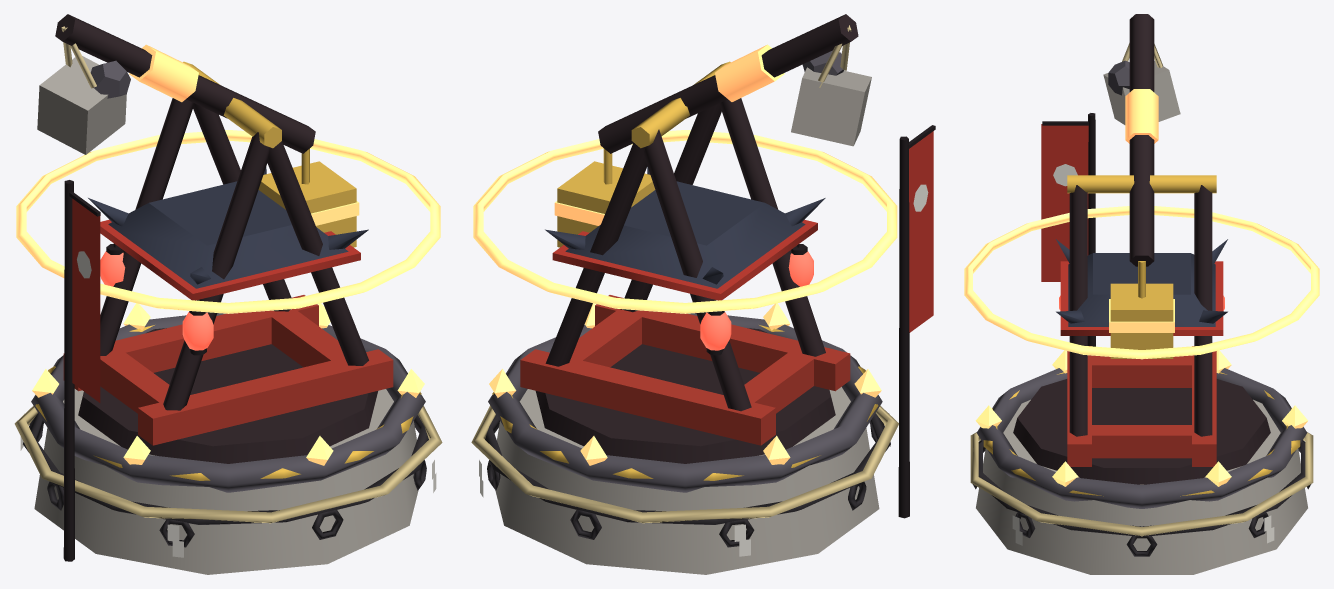
File: tower_catapult_fortressBreaker_ultimate.glb
3 renders of one model, left to right at view 1: azimuth 30°, elevation 25°; view 2: azimuth 150°, elevation 25°; view 3: azimuth 270°, elevation 25°, orthographic. The views are drawn at different scales.
Visible parts, largest first — view 1: base, turntable, base_rim, deco_eave_0_roof, rail_l, ult_halo, deco_shimenawa_rope, breaker_block, arm_beam, deco_nobori_cloth, aframe_back_l, rail_r (+17 smaller); view 2: base, turntable, base_rim, deco_eave_0_roof, ult_halo, rail_r, rail_l, deco_shimenawa_rope, arm_beam, aframe_back_r, breaker_block, aframe_back_l (+16 smaller); view 3: base, turntable, base_rim, ult_halo, deco_eave_0_roof, arm_beam, deco_nobori_cloth, deco_shimenawa_rope, aframe_front_l, aframe_front_r, cross_e, counterweight (+13 smaller).
Boxes of the visible parts, x1,y1,x2,y2 form: base: [34, 389, 418, 574]; turntable: [78, 328, 377, 463]; base_rim: [31, 313, 425, 492]; deco_eave_0_roof: [108, 181, 348, 288]; rail_l: [138, 349, 393, 445]; ult_halo: [16, 130, 440, 313]; deco_shimenawa_rope: [14, 405, 442, 523]; breaker_block: [37, 56, 126, 154]; arm_beam: [55, 14, 315, 153]; deco_nobori_cloth: [72, 198, 100, 402]; aframe_back_l: [163, 132, 269, 410]; rail_r: [63, 295, 318, 391]; base: [495, 387, 879, 574]; turntable: [535, 328, 835, 463]; base_rim: [488, 313, 882, 492]; deco_eave_0_roof: [565, 181, 805, 288]; ult_halo: [473, 130, 897, 313]; rail_r: [520, 349, 775, 445]; rail_l: [595, 295, 850, 391]; deco_shimenawa_rope: [471, 405, 898, 523]; arm_beam: [598, 14, 858, 153]; aframe_back_r: [642, 129, 751, 411]; breaker_block: [791, 67, 871, 146]; aframe_back_l: [719, 98, 825, 356]; base: [976, 399, 1307, 574]; turntable: [1013, 379, 1270, 484]; base_rim: [976, 368, 1307, 508]; ult_halo: [964, 206, 1319, 359]; deco_eave_0_roof: [1068, 253, 1215, 326]; arm_beam: [1129, 14, 1154, 266]; deco_nobori_cloth: [1041, 124, 1088, 281]; deco_shimenawa_rope: [970, 432, 1313, 536]; aframe_front_l: [1069, 185, 1087, 436]; aframe_front_r: [1194, 185, 1212, 436]; cross_e: [1067, 425, 1216, 458]; counterweight: [1110, 283, 1173, 358].
Size of the model in its own units: 0.4427 by 0.5707 by 0.4274.
